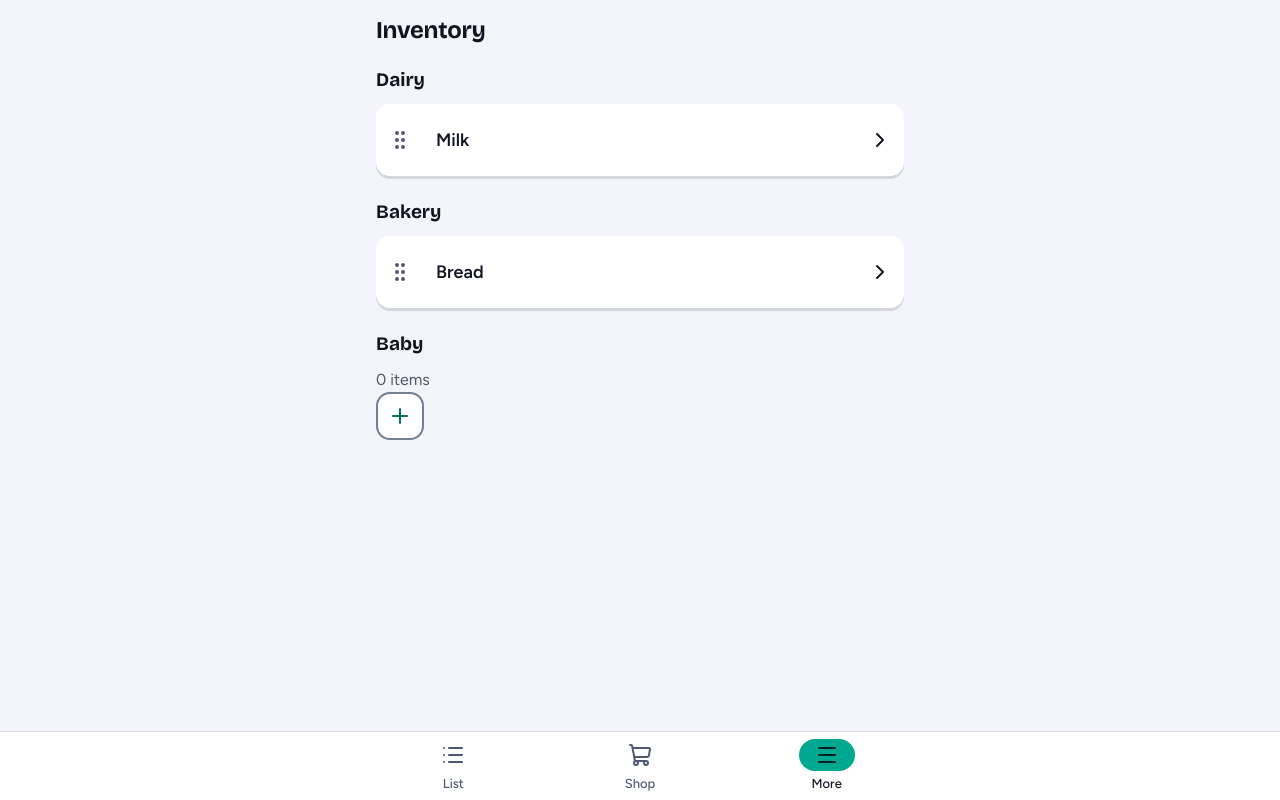
Scenario: Adding a custom category on Inventory › creates nothing and says why for
Click the button named "Add Category": click(400, 416) [376,392,424,440]
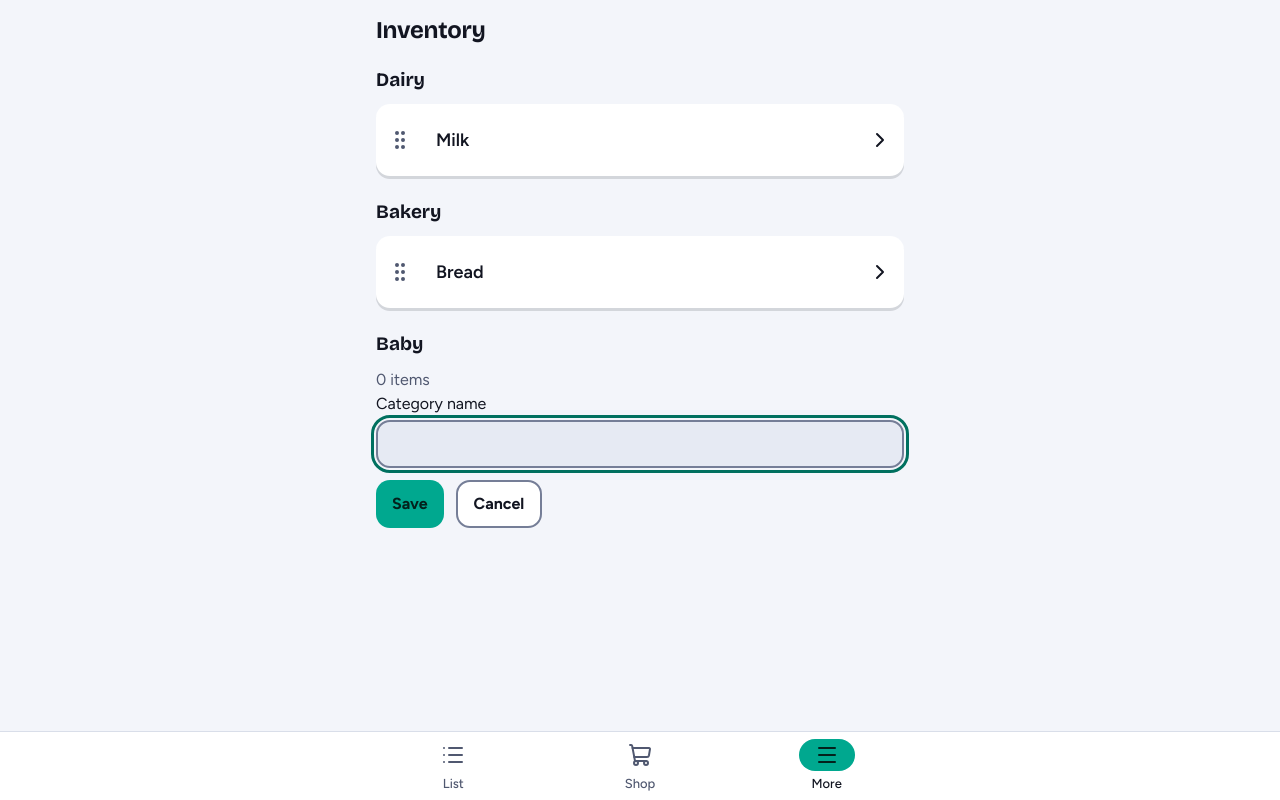
Click the button "Save": click(410, 504) [376,480,444,528]
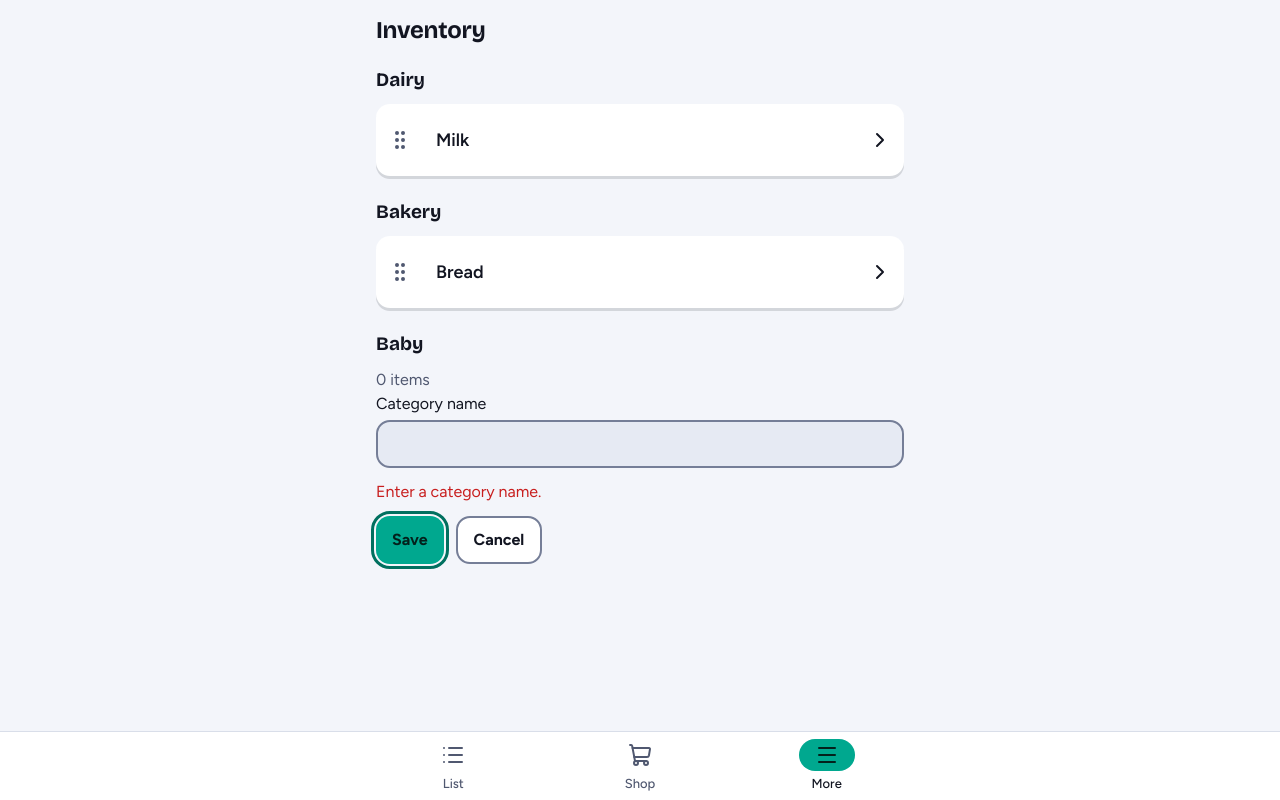
Now the message shows "Enter a category name", box [376,482,541,501]
